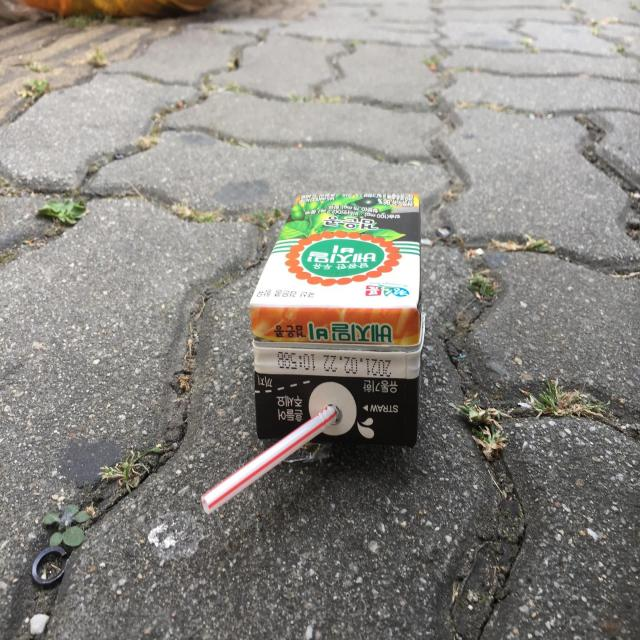paperpack: (250, 192, 425, 446)
